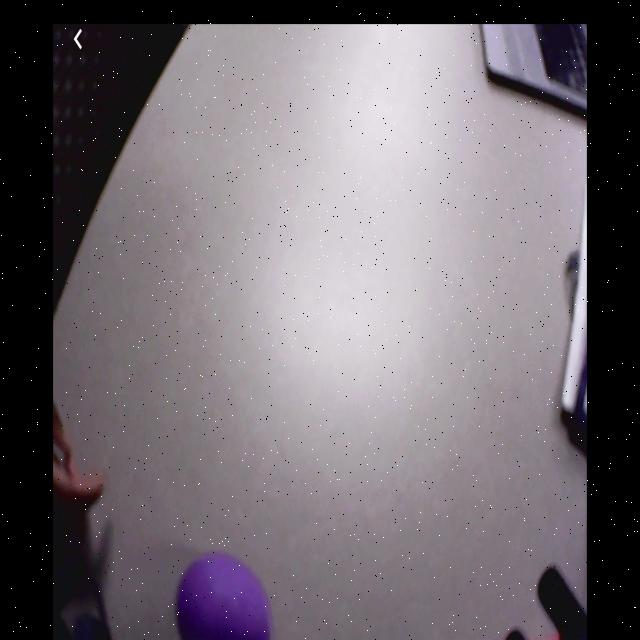ball: (178, 552, 271, 640)
